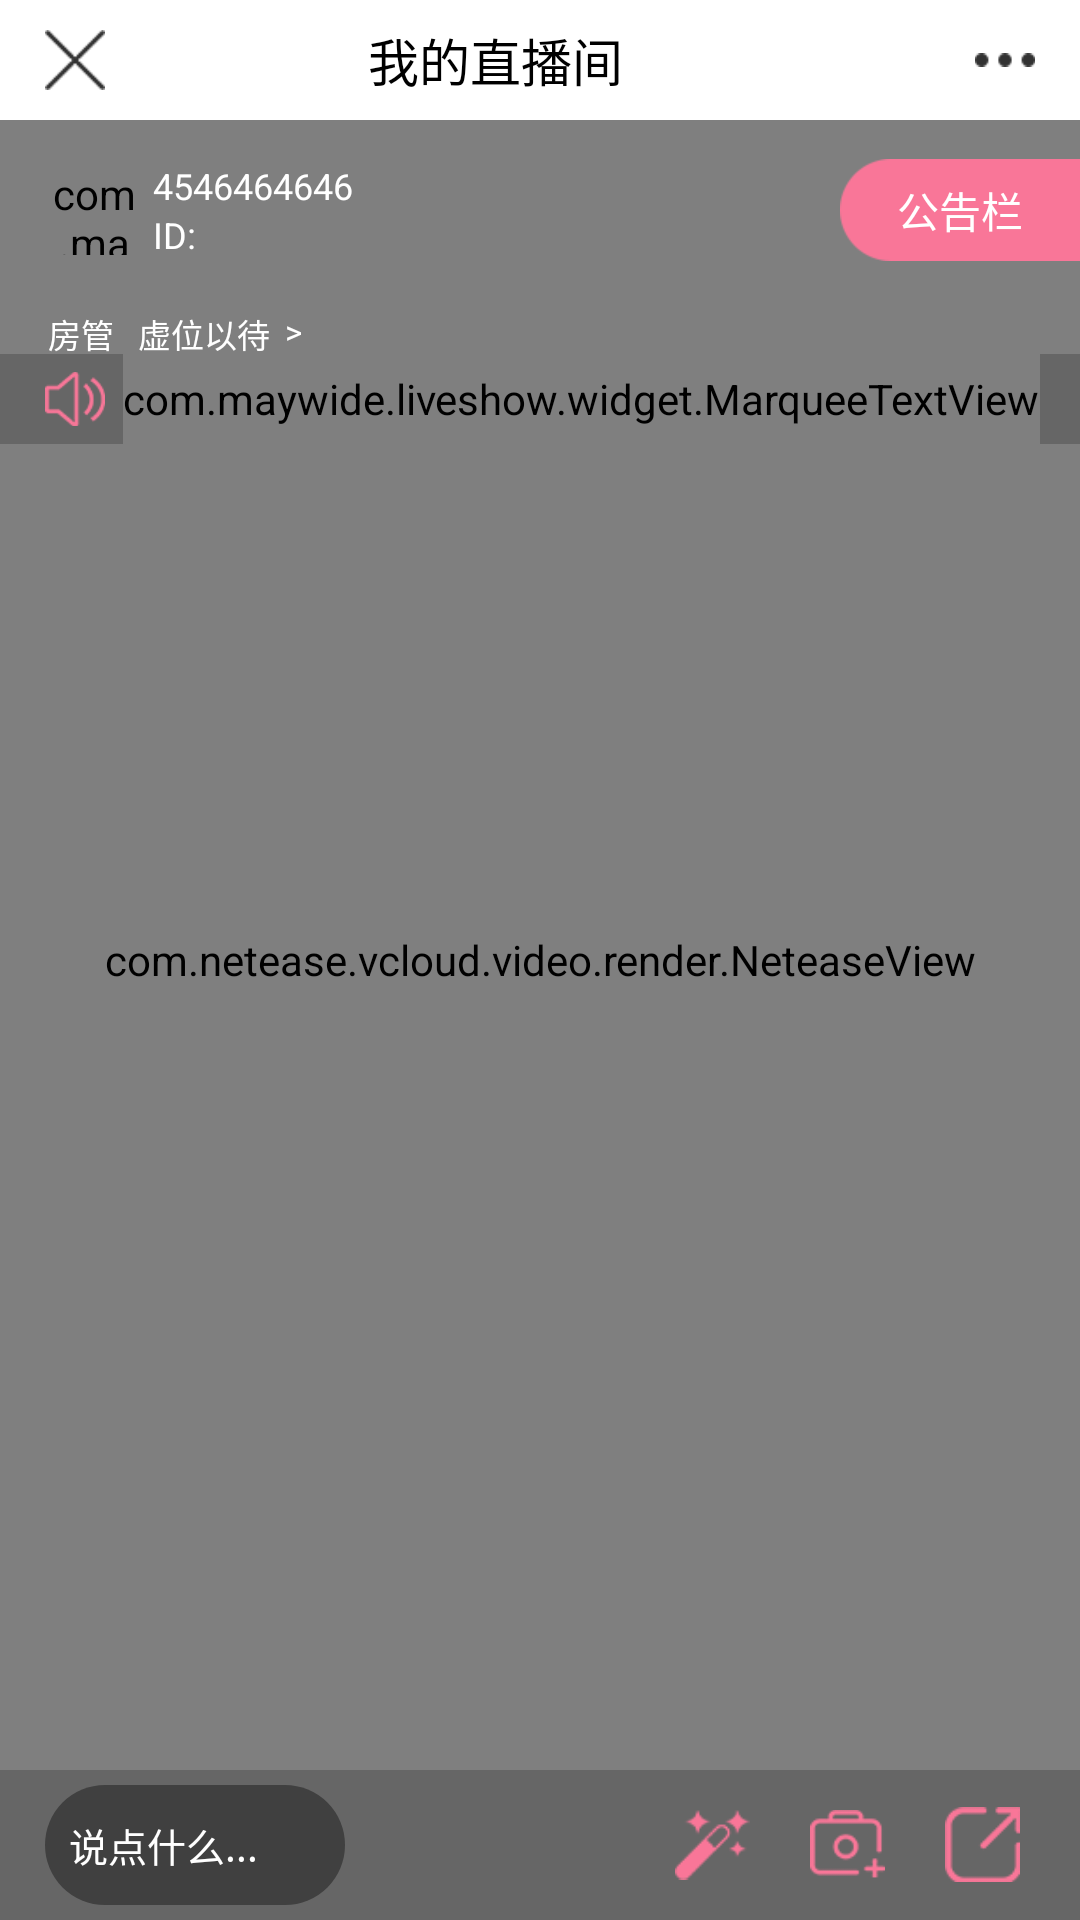

Locate icon controls on the screen. Image size 1080 × 1920, boxes as region(x1, y1, x2, y2).
beauty: region(675, 1810, 749, 1880)
broad: region(45, 372, 105, 426)
finish: region(45, 30, 105, 90)
more: region(975, 53, 1035, 67)
photo: region(810, 1810, 885, 1878)
share: region(945, 1807, 1020, 1882)
